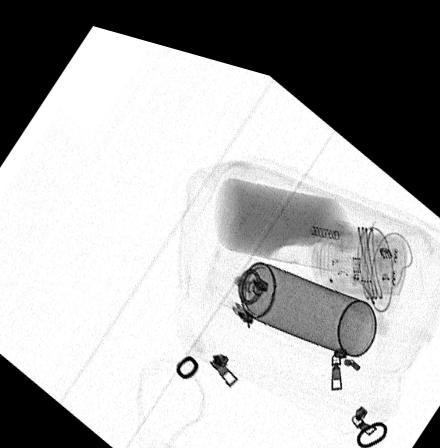Sprayer: (210, 233, 377, 336)
